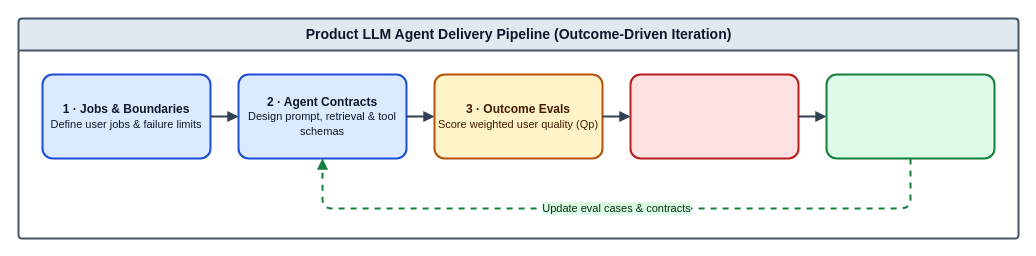
Some shapes in this 1036 by 256 pixel diagram are drawn without their labels. Here are the shapes that lost their labels. From the top down, the centre of each, then its label:
At point 714,116: "4 · Guarded Launch Ship with policy & HITL risk gates".
At point 910,116: "5 · Signal Iteration Refine from user feedback & incidents".
